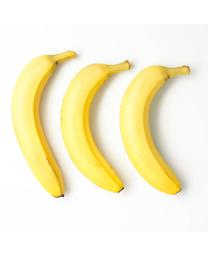banana: (58, 59, 132, 196), (10, 49, 78, 198), (118, 63, 191, 197)
